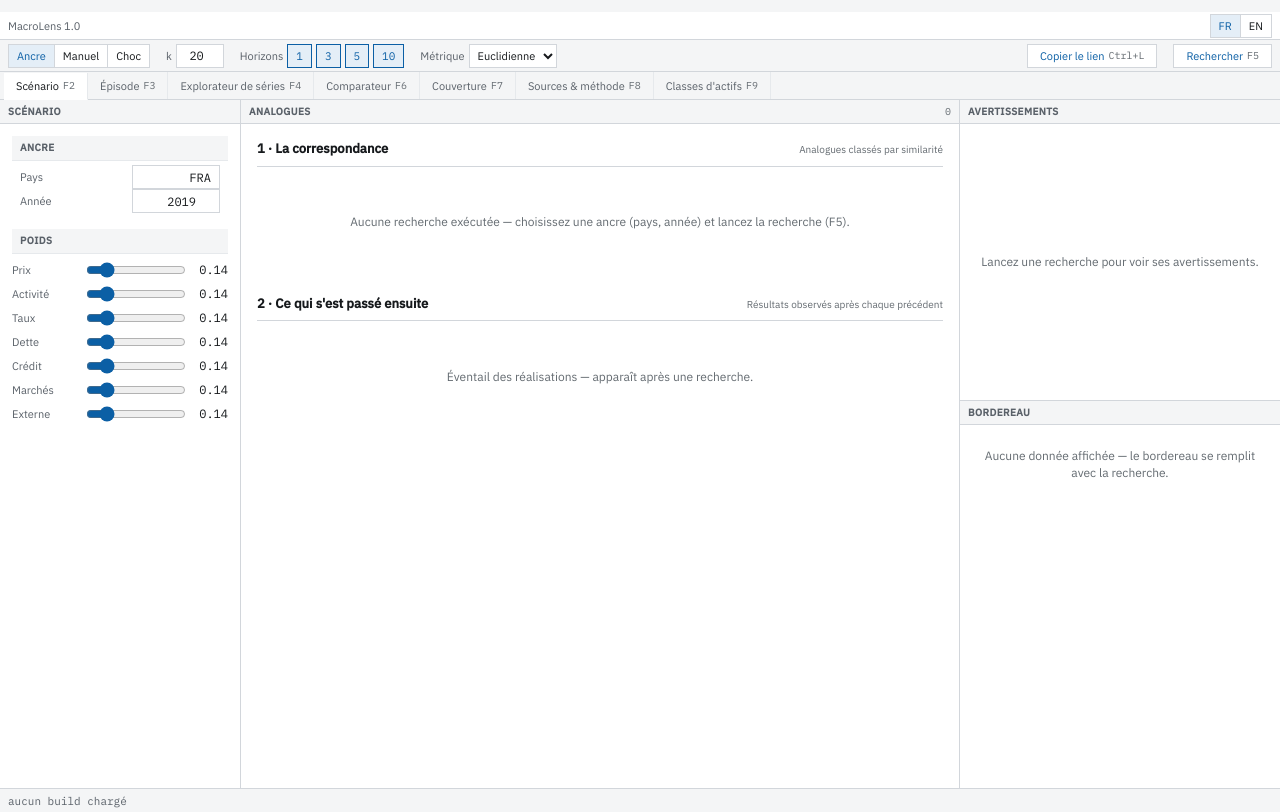
Scenario: App › switches interface language when FR/EN is clicked (Phase 7)
Check: the tab "Scénario F2" is shown, box x1=4 y1=73 x2=88 y2=100
Click the button "EN".
click(1256, 26)  # box x1=1241 y1=14 x2=1271 y2=36
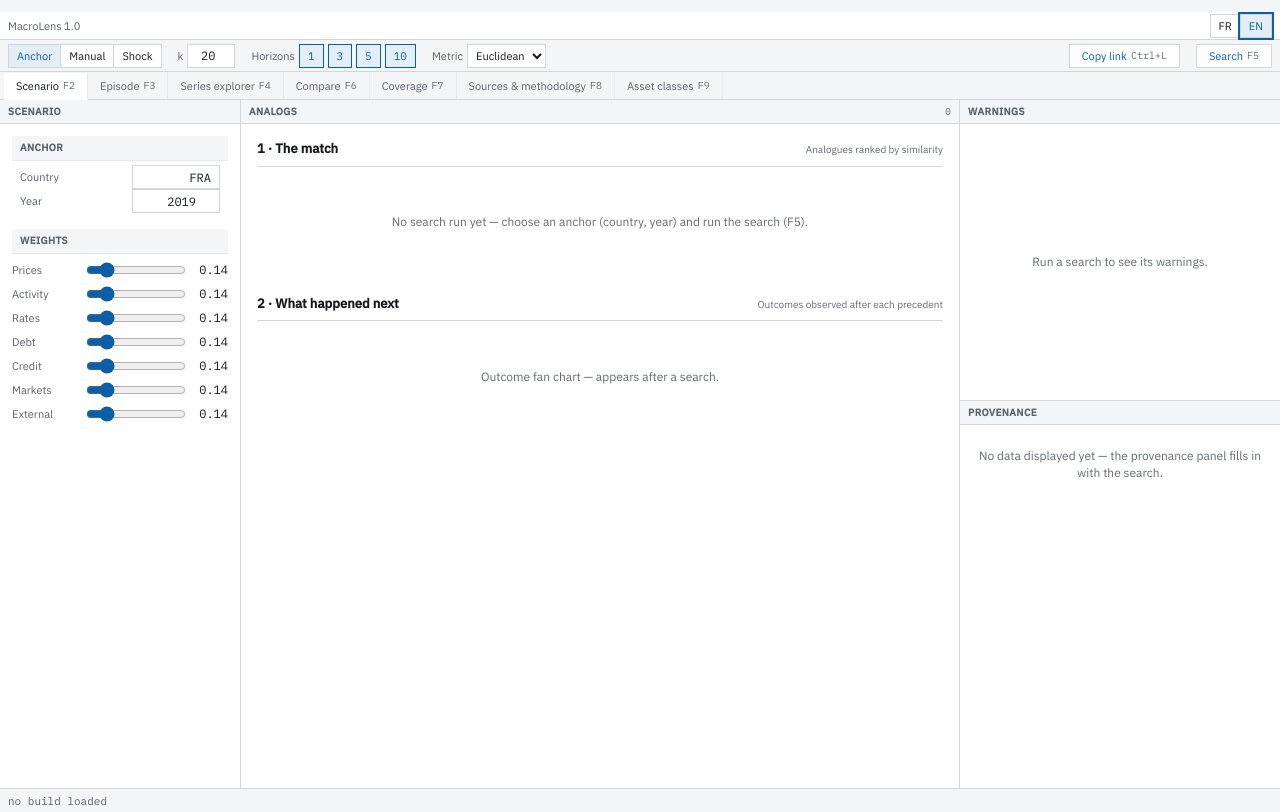
Check: the tab "Scenario F2" is shown, box x1=4 y1=73 x2=88 y2=100
Check: the button "Search F5" is shown, box x1=1196 y1=44 x2=1272 y2=68
